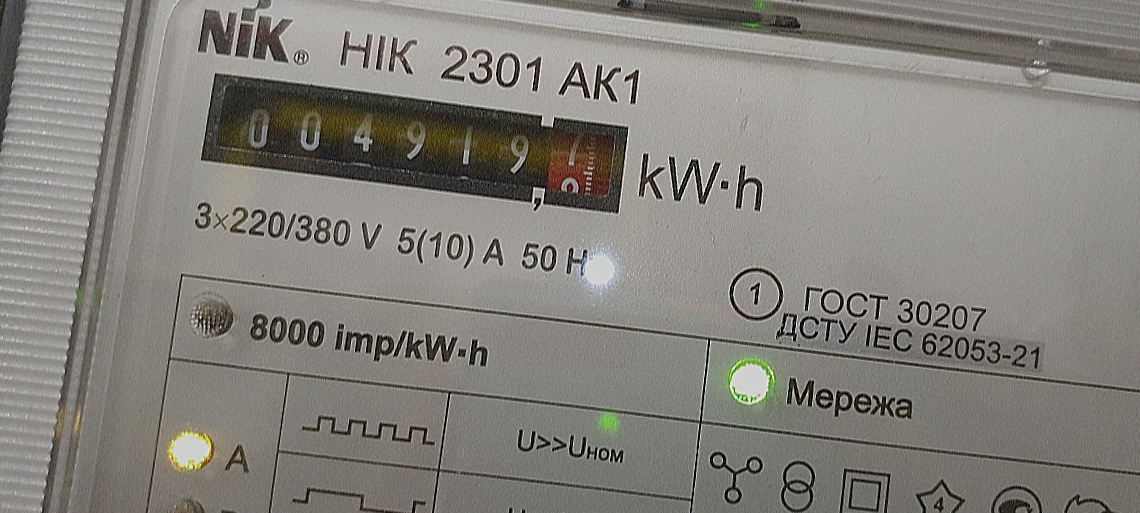0: (294, 105, 325, 153), (242, 104, 272, 150)
1: (455, 121, 476, 168)
4: (347, 107, 376, 153)
7: (557, 127, 585, 169)
9: (502, 129, 531, 178), (399, 117, 428, 163)
screen: (186, 57, 647, 233)
